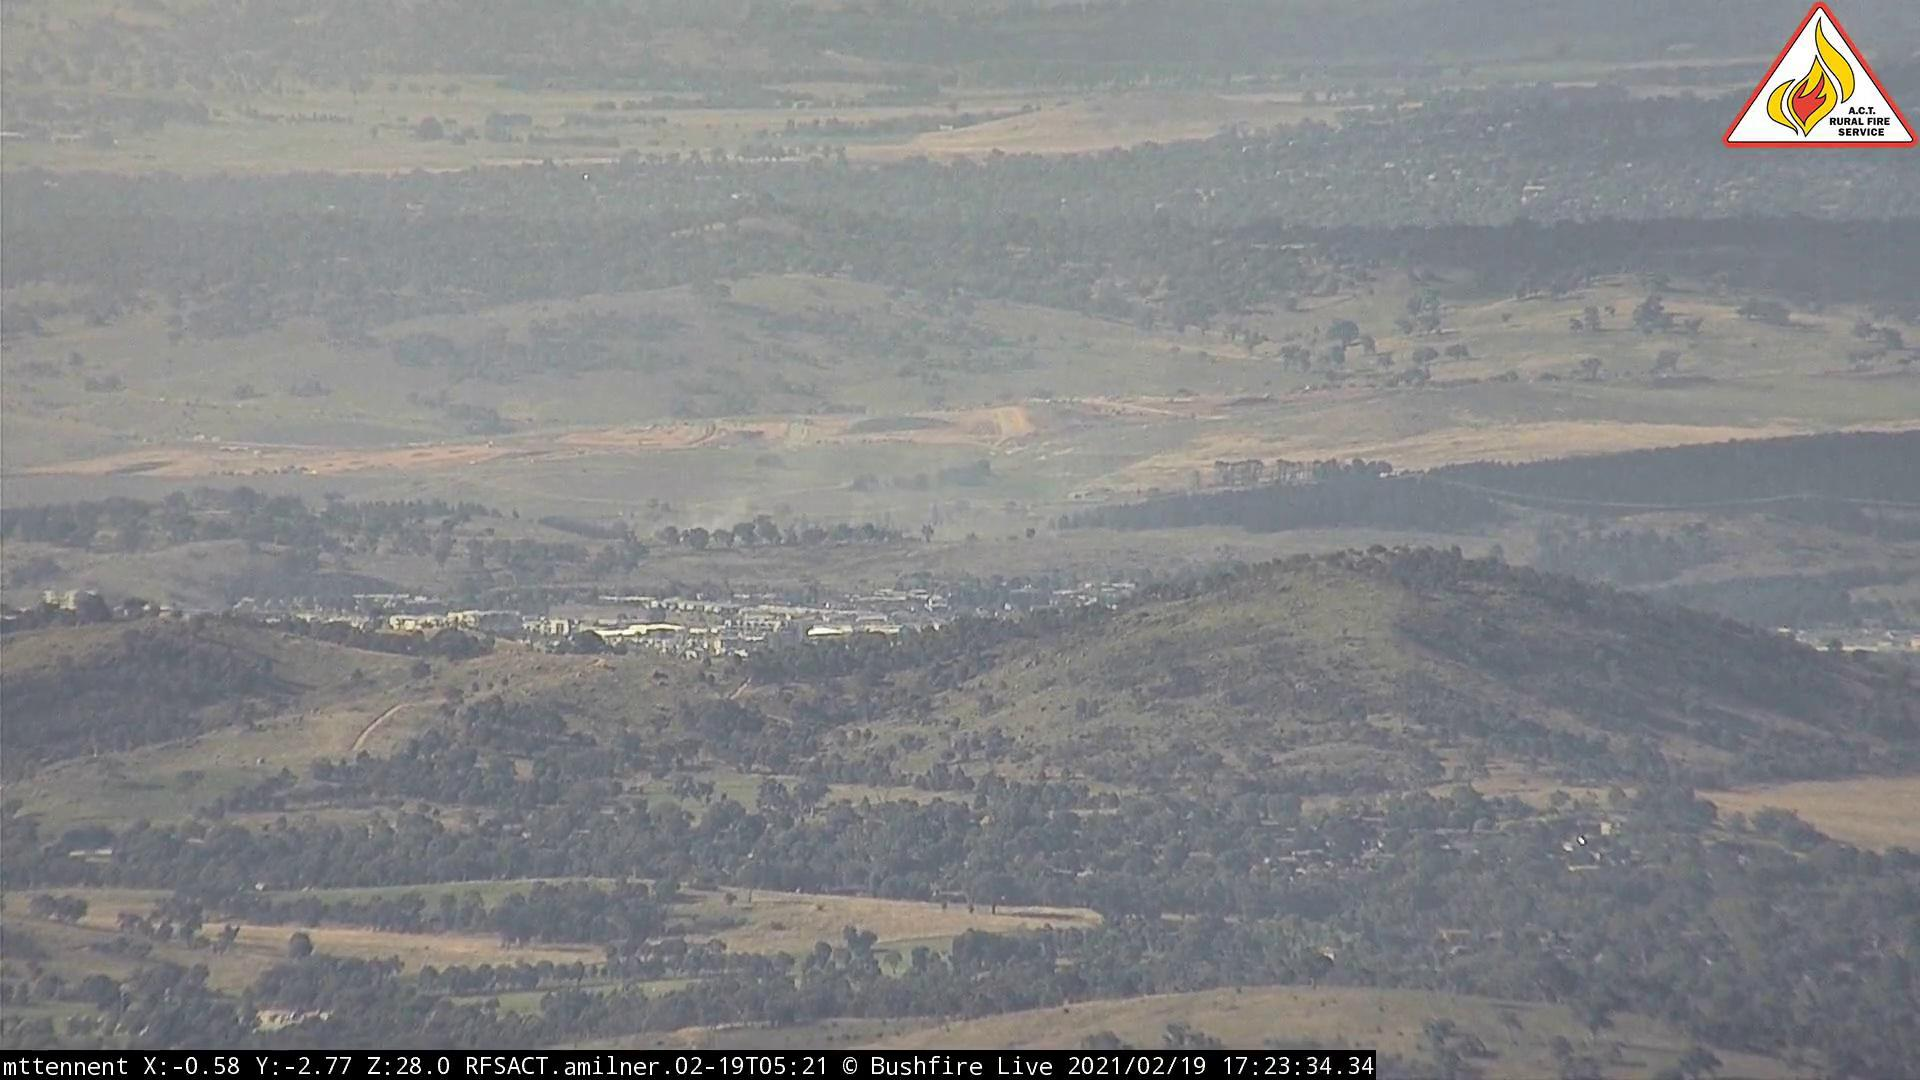instance_salient_object: (673, 438, 858, 549)
